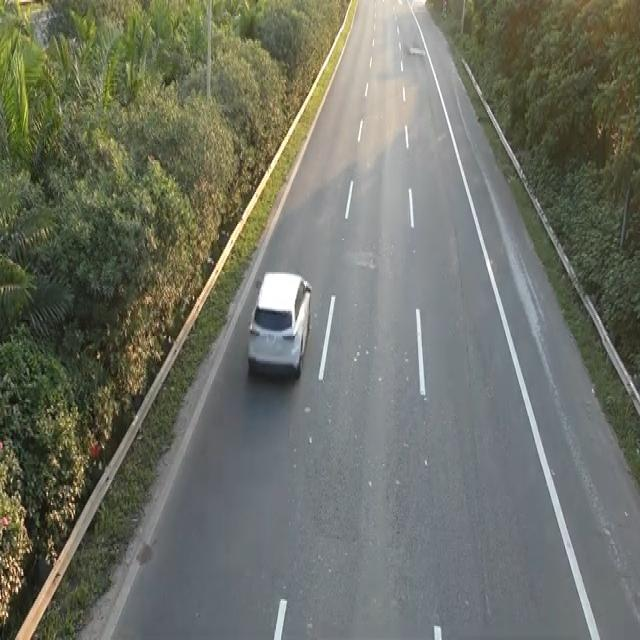car: (245, 266, 313, 381)
